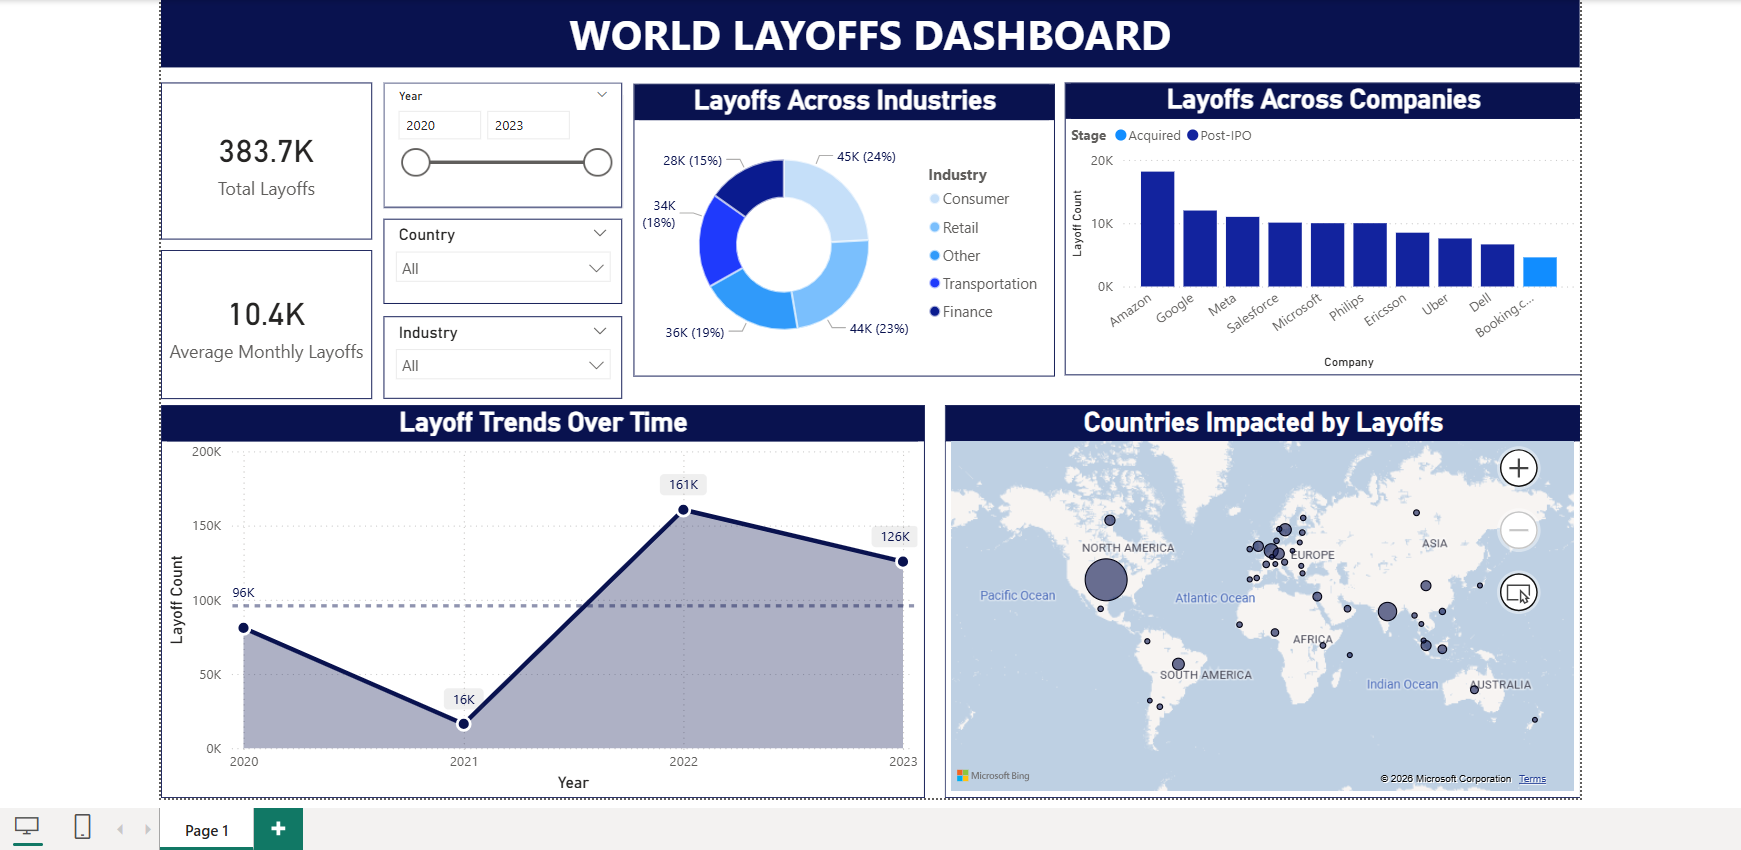

This screenshot's page, from the dashboard's own definition file:
{"tool":"powerbi","page":{"name":"Page 1","canvas":[1280,720],"ordinal":0},"visuals":[{"type":"textbox","box":[0,0,1279.2,61.1],"z":0},{"type":"card","fields":{"Values":["Sum(WLD.Total_laid_off)"]},"box":[0,74.6,190.8,141.8],"z":1000},{"type":"card","fields":{"Values":["WLD.Average_Monthly_Layoffs"]},"box":[0,225,190.8,134.5],"z":2000},{"type":"areaChart","title":"Layoff Trends Over Time","fields":{"Y":["Sum(WLD.Total_laid_off)"],"Category":["WLD.Date(transformed).Variation.Date Hierarchy.Year","WLD.Date(transformed).Variation.Date Hierarchy.Quarter","WLD.Date(transformed).Variation.Date Hierarchy.Month","WLD.Date(transformed).Variation.Date Hierarchy.Day"]},"box":[0,365.6,688.5,354.6],"z":3000},{"type":"map","title":"Countries Impacted by Layoffs ","fields":{"Category":["WLD.Country","WLD.Location"],"Size":["Sum(WLD.Total_laid_off)"]},"box":[706.8,365.6,573.5,354.6],"z":4000},{"type":"slicer","fields":{"Values":["WLD.Country"]},"box":[200.5,196.9,215.2,77],"z":5000},{"type":"slicer","fields":{"Values":["WLD.Date.Variation.Date Hierarchy.Year"]},"box":[200.5,74.6,215.2,112.5],"z":6000},{"type":"slicer","fields":{"Values":["WLD.Industry"]},"box":[200.5,284.9,215.2,74.6],"z":7000},{"type":"donutChart","title":"Layoffs Across Industries","fields":{"Y":["Sum(WLD.Total_laid_off)"],"Category":["WLD.Industry"]},"box":[426.2,75,380,263.8],"z":8000},{"type":"columnChart","title":"Layoffs Across Companies","fields":{"Y":["Sum(WLD.Total_laid_off)"],"Category":["WLD.Company"],"Series":["WLD.Stage"]},"box":[814.4,74.6,465.9,264.1],"z":9000}]}

Visuals, with their boxes in screenshot pixels (x1, y1, x2, y2):
textbox: bbox(154, 0, 1587, 59)
card - Sum(WLD.Total_laid_off): bbox(154, 74, 368, 233)
card - WLD.Average_Monthly_Layoffs: bbox(154, 243, 368, 394)
"Layoff Trends Over Time" areaChart: bbox(154, 400, 925, 798)
"Countries Impacted by Layoffs " map: bbox(946, 400, 1588, 798)
slicer - WLD.Country: bbox(379, 211, 620, 298)
slicer - WLD.Date.Variation.Date Hierarchy.Year: bbox(379, 74, 620, 201)
slicer - WLD.Industry: bbox(379, 310, 620, 394)
"Layoffs Across Industries" donutChart: bbox(632, 75, 1057, 370)
"Layoffs Across Companies" columnChart: bbox(1066, 74, 1588, 370)
